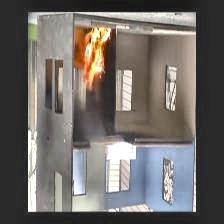fire: (71, 14, 111, 92)
